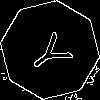Y: (25, 25, 82, 79)
